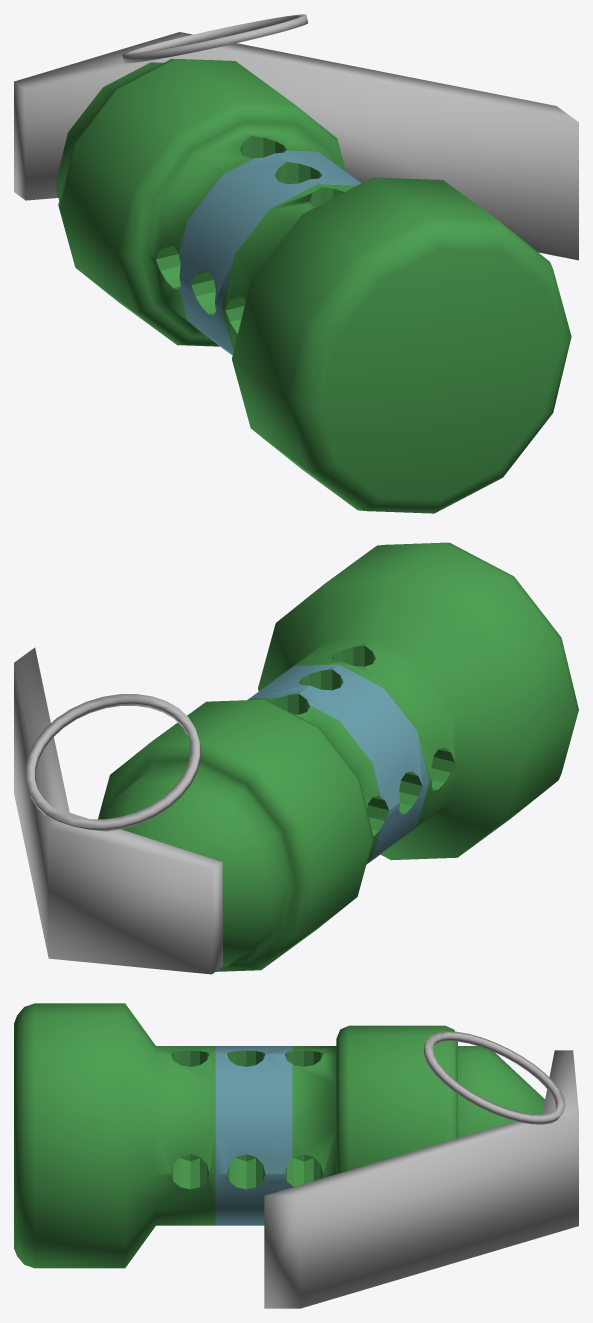
File: item-flashgrenade.glb
3 renders of one model, top to bottom at view 1: azimuth 30°, elevation 25°; view 2: azimuth 150°, elevation 25°; view 3: azimuth 270°, elevation 25°, orthographic. The views are drawn at different scales.
Bounding box in the file's own units: 2.67 × 1.74 × 3.7.
